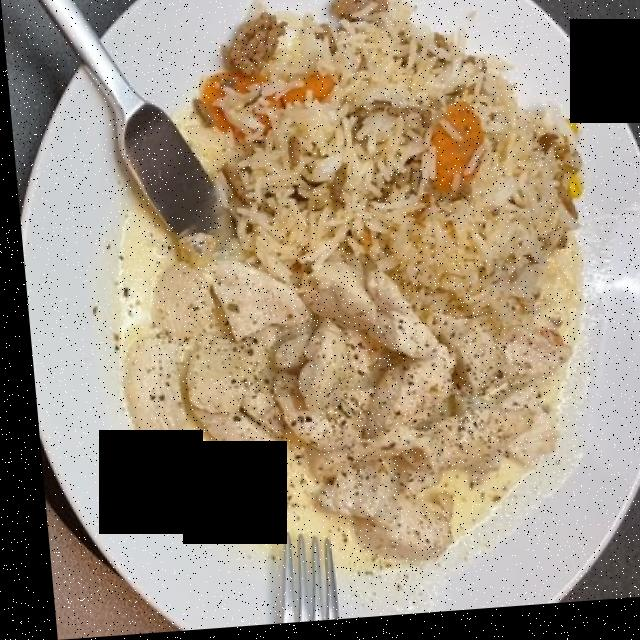chicken-cut-into-stripes-only-meat: (113, 238, 563, 574)
mixed-vegetables: (198, 0, 594, 239)
rice: (194, 19, 569, 343)
sauce-cream: (102, 211, 578, 580)
